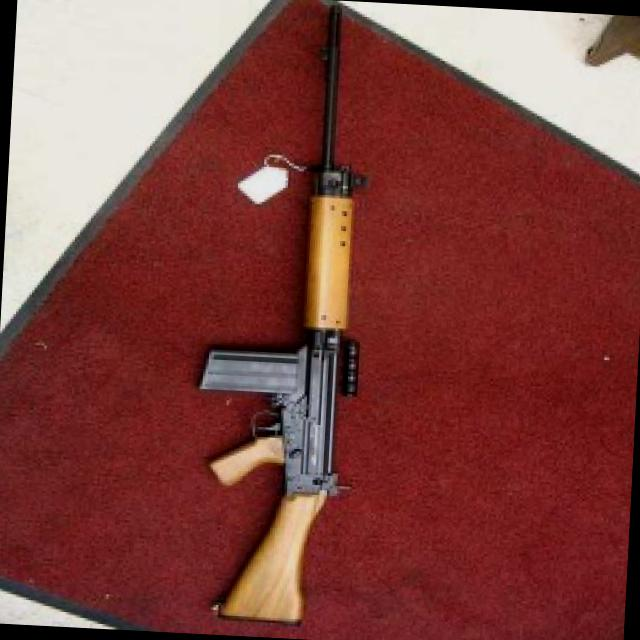long weapon: (207, 0, 405, 637)
